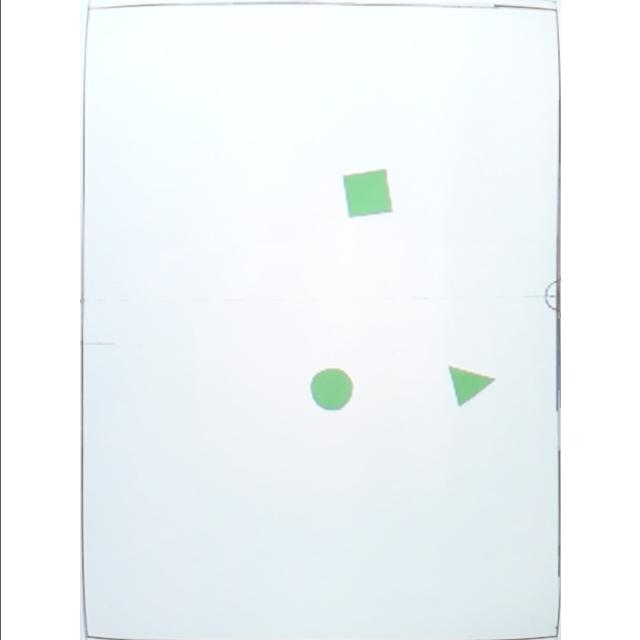greenCircle: (310, 367, 356, 411)
greenSquare: (340, 168, 396, 220)
greenTriangle: (446, 362, 496, 408)
